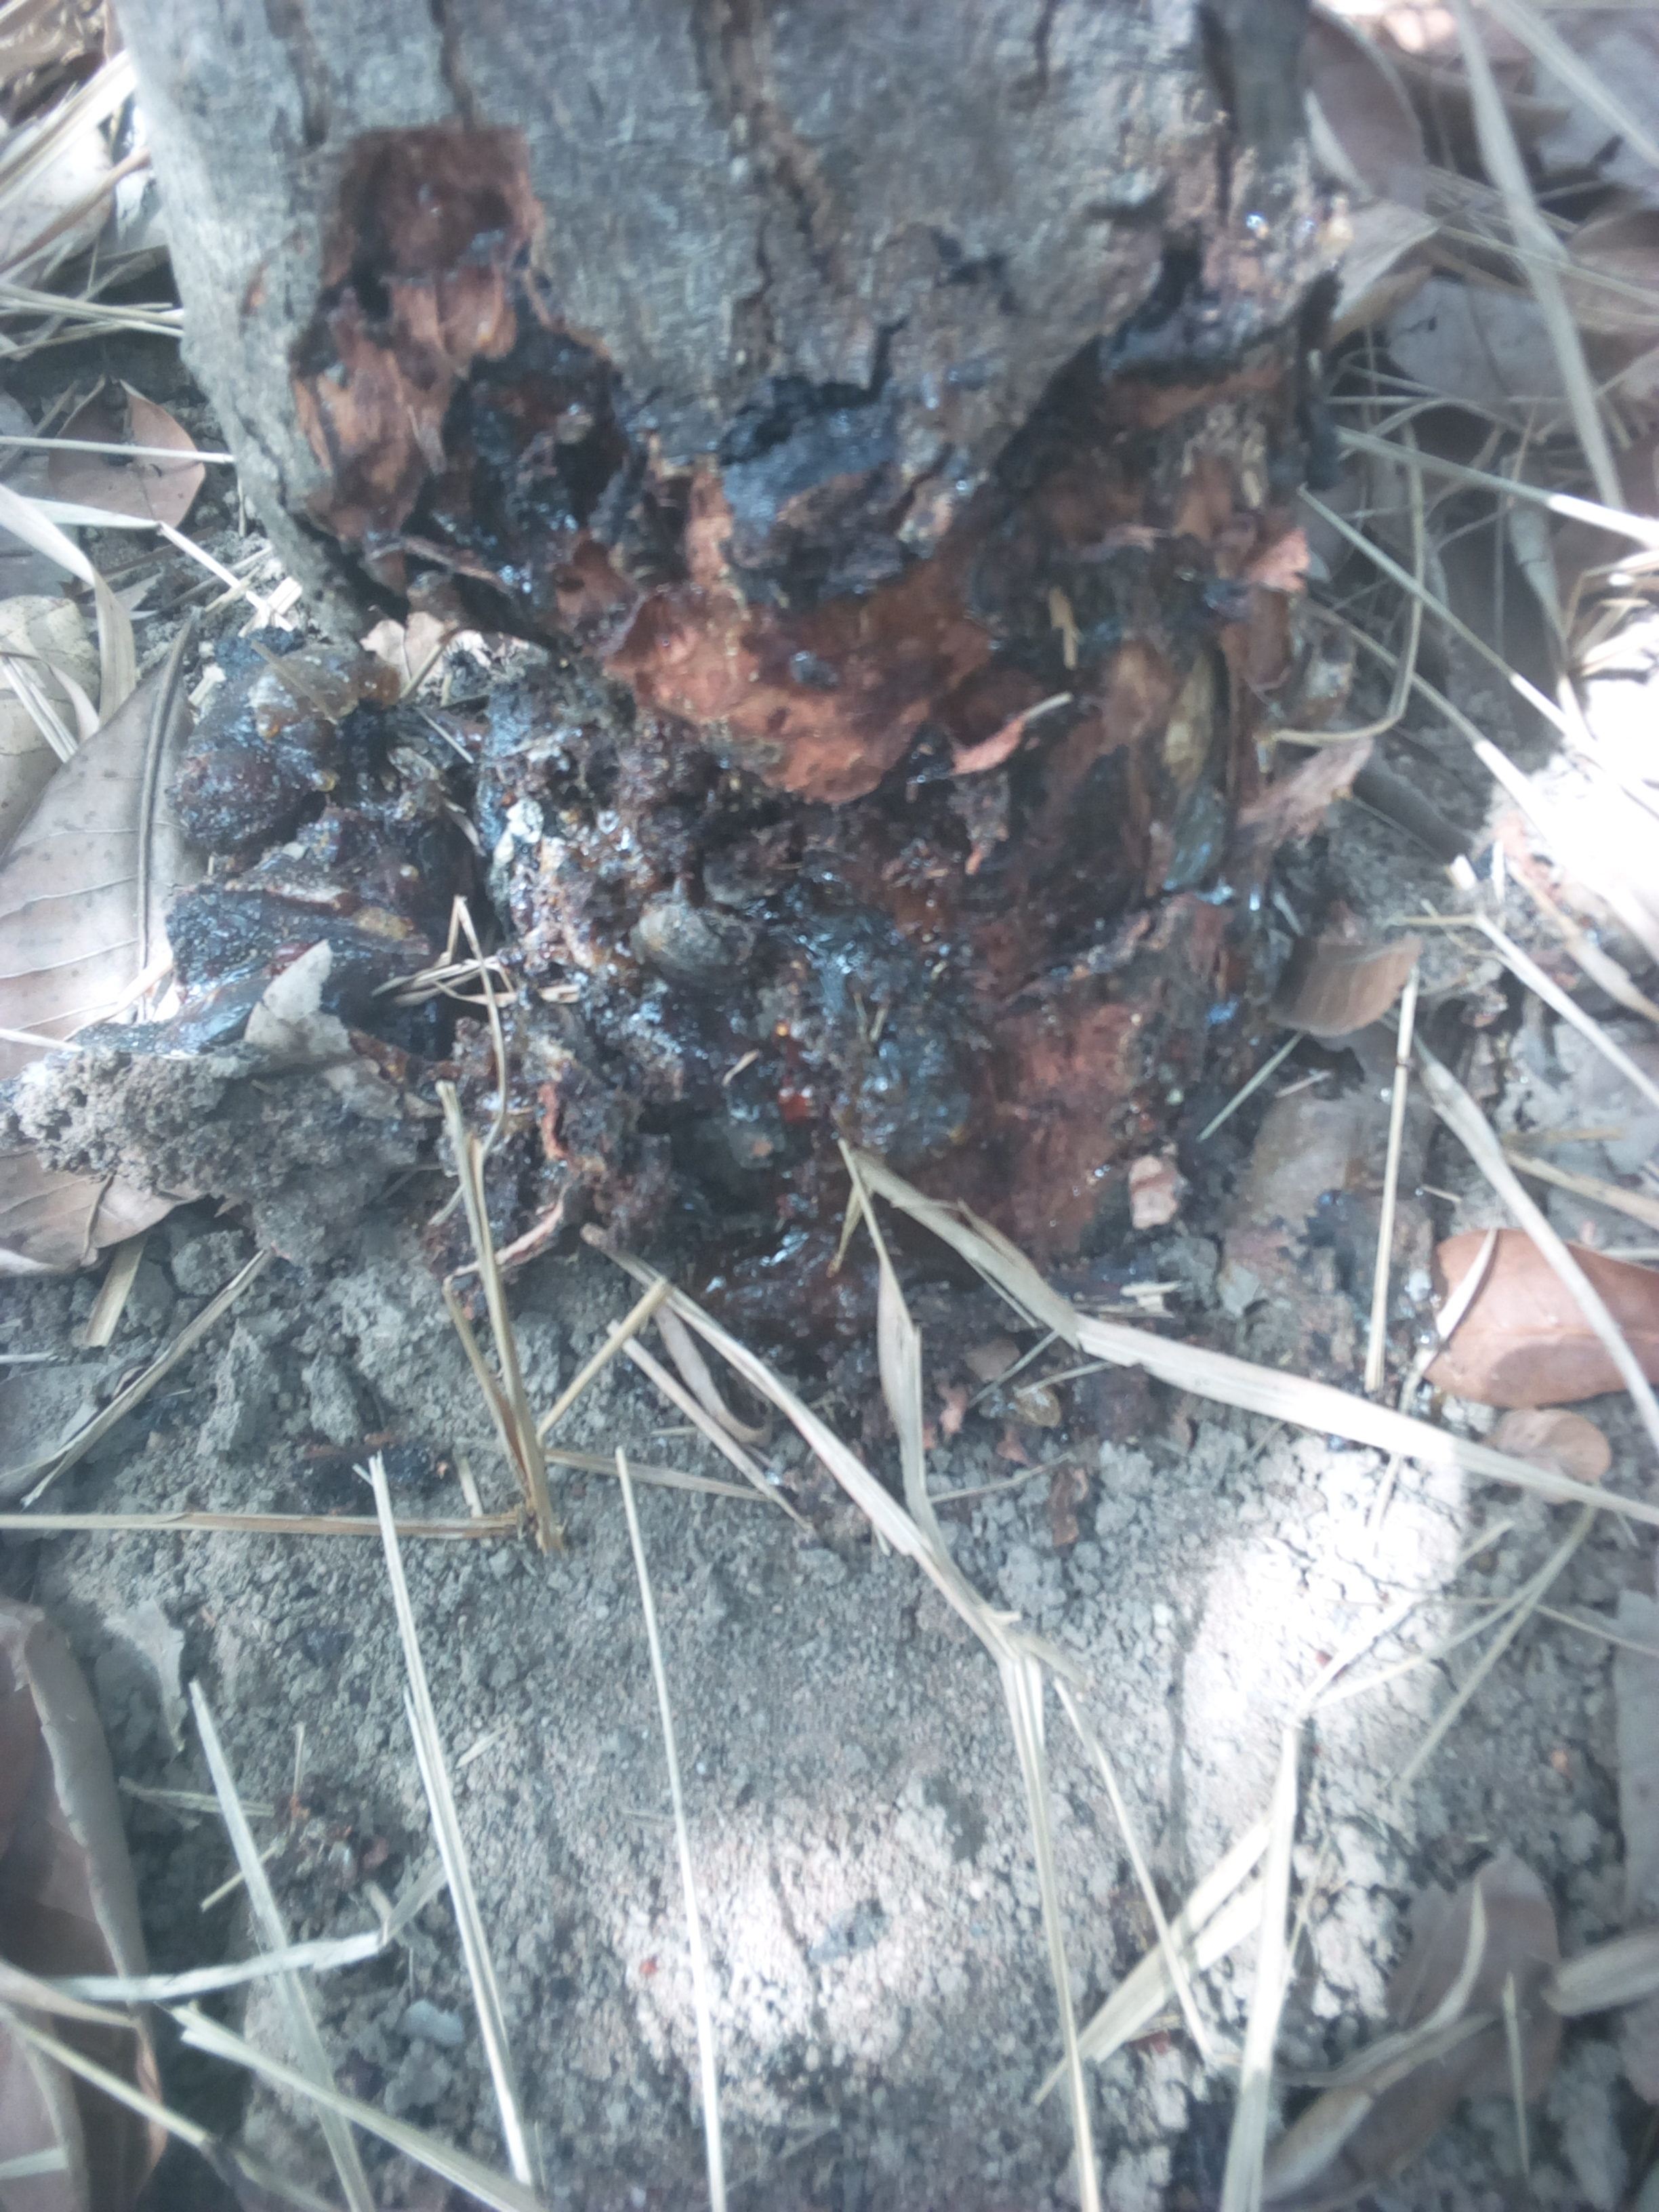Gommose: (206, 479, 1227, 1292)
